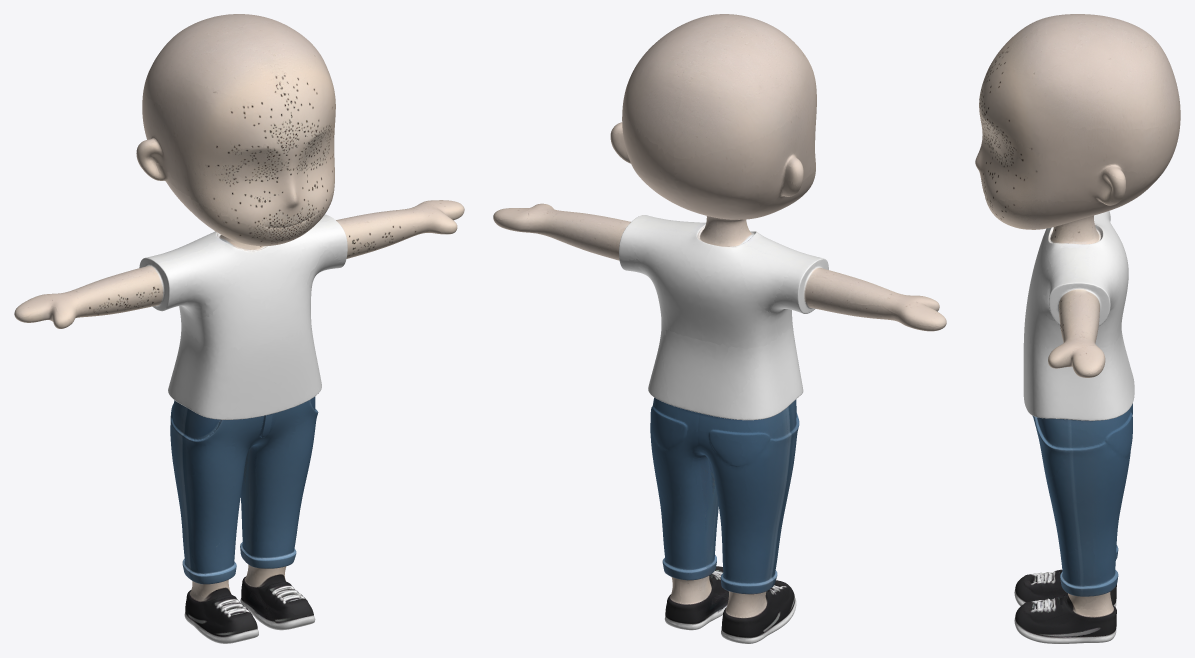
File: baked_noutfit_tee.glb
3 renders of one model, left to right at view 1: azimuth 30°, elevation 25°; view 2: azimuth 150°, elevation 25°; view 3: azimuth 270°, elevation 25°, orthographic.
Bounding box in the file's own units: 1.5 × 1.9 × 0.5924.
1 material, 1 textured.
